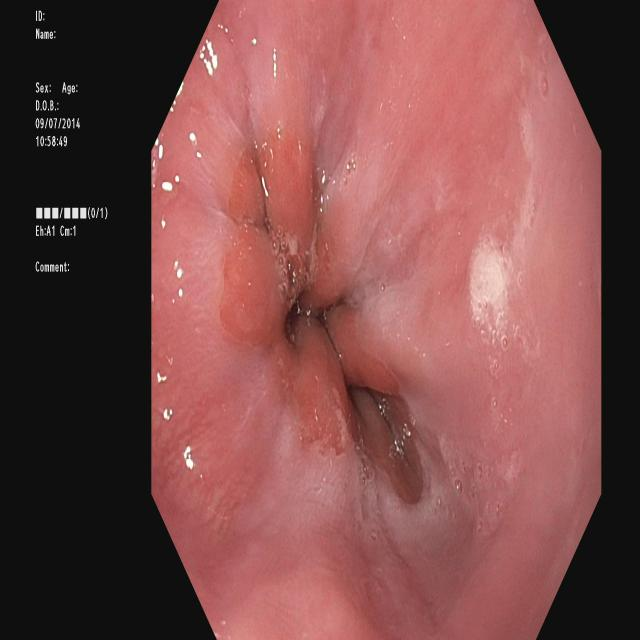Normal-Z-Line: (214, 119, 443, 515)
